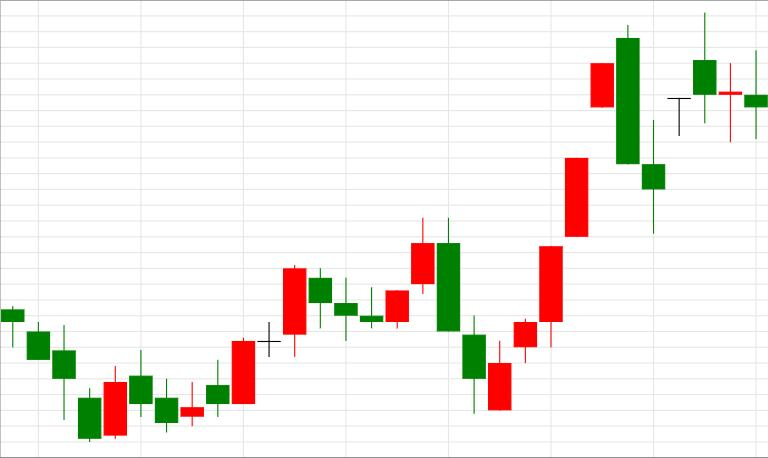bearish_engulfing_fall: (489, 25, 639, 410)
three_white_soldiers_rise: (411, 159, 589, 414)
